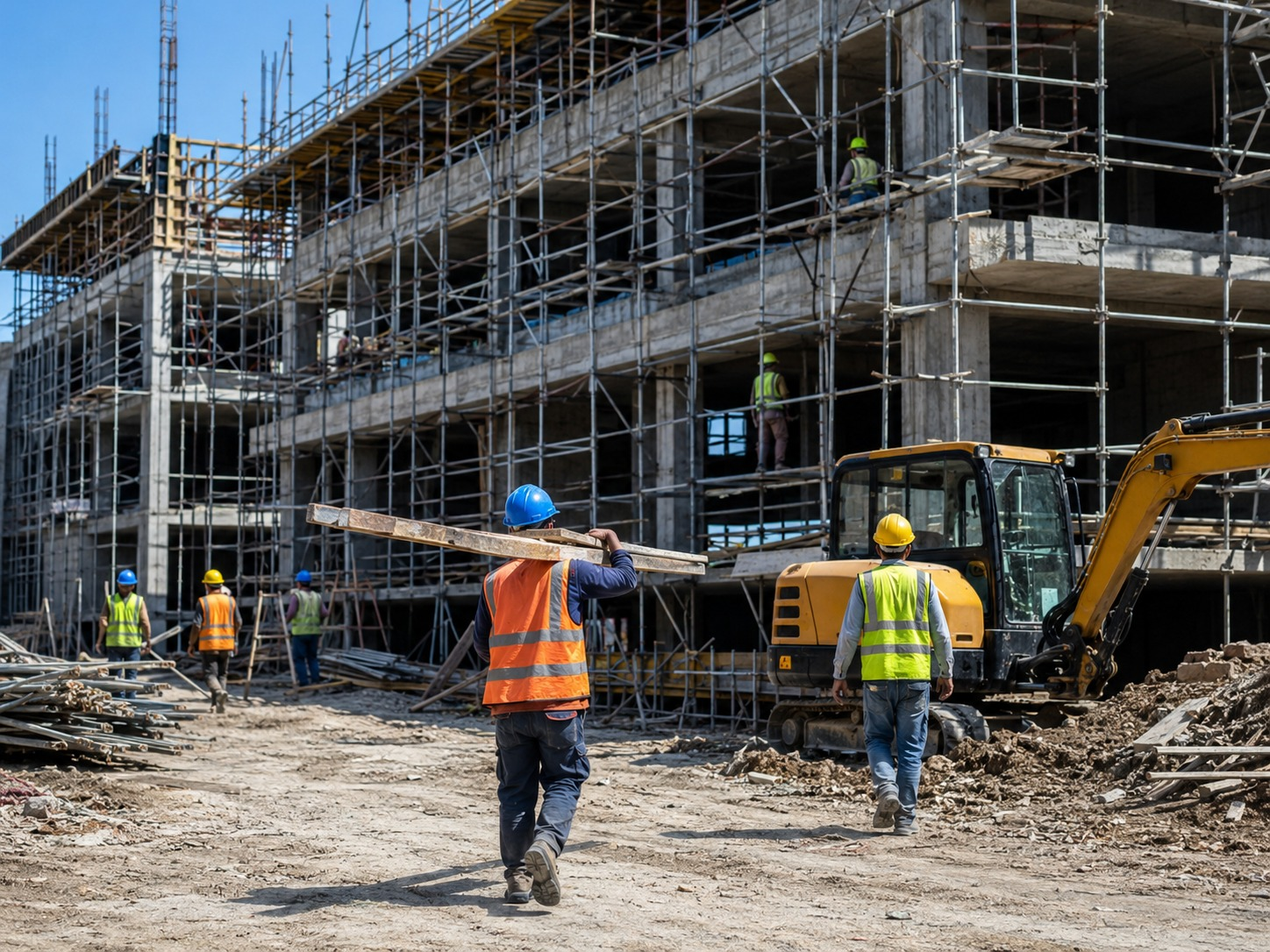helmet: (617, 491, 679, 538)
person: (537, 500, 686, 842), (903, 500, 1009, 771)
vehicle: (886, 425, 1228, 627)
vest: (526, 565, 658, 714)
